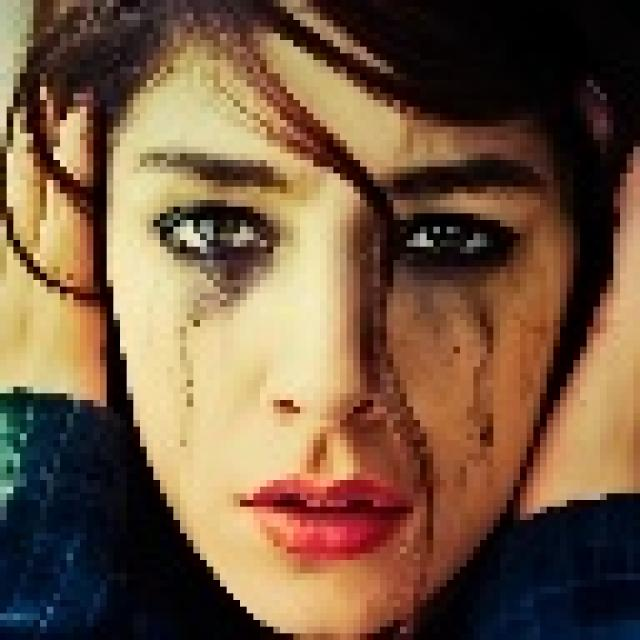sad: (64, 5, 604, 640)
